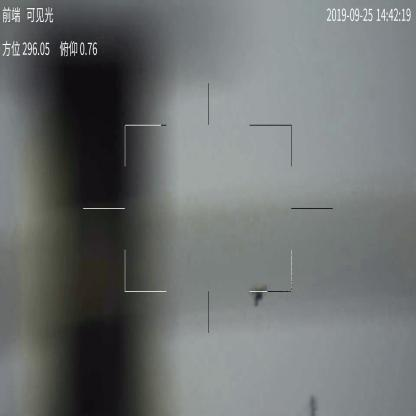uav: (245, 282, 267, 306)
